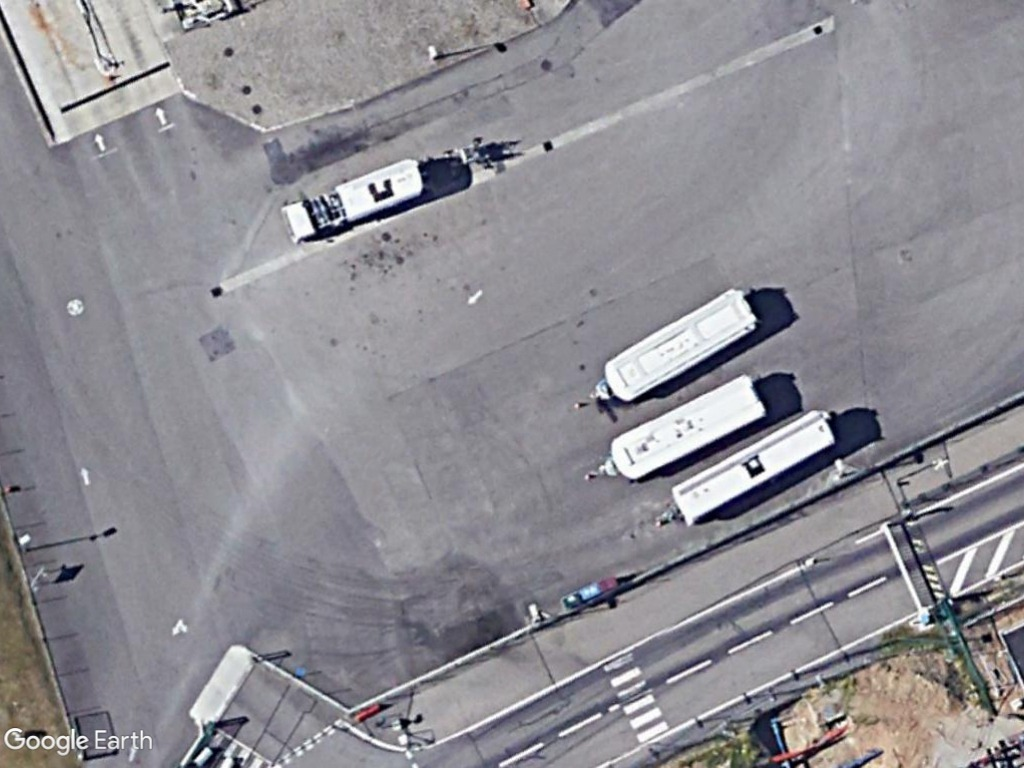bus: (668, 409, 842, 528)
others: (280, 157, 426, 245)
